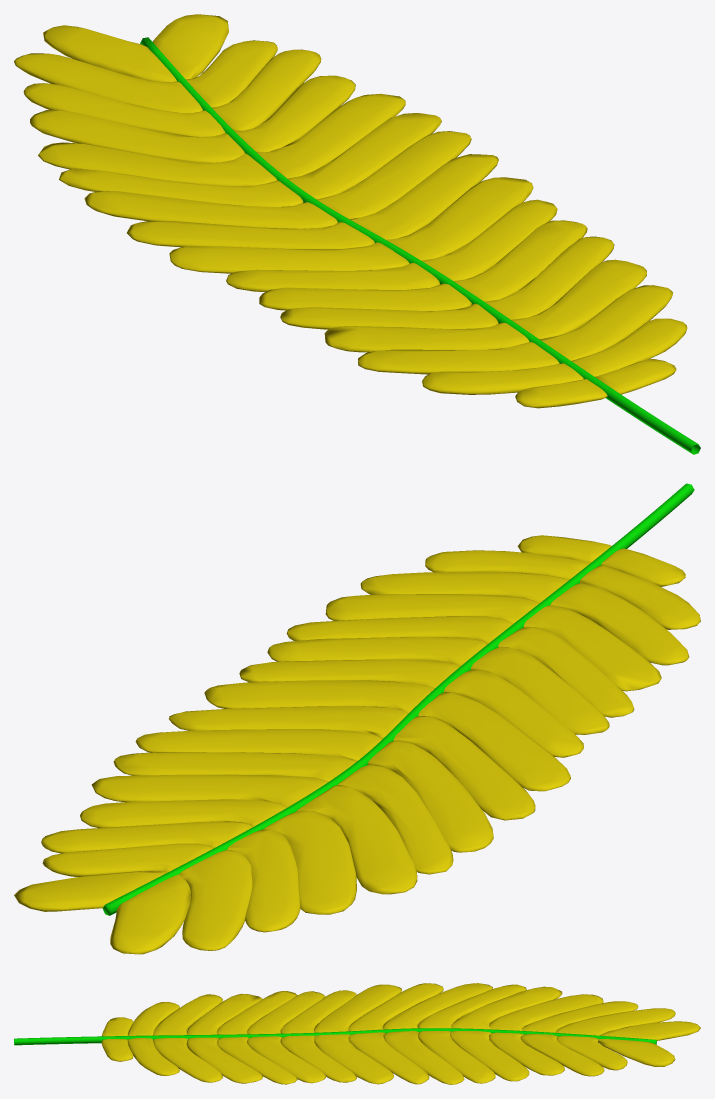
The model's file is mimosa_low.fbx.
3 views of the same model, one above another, from view 1: azimuth 30°, elevation 25°; view 2: azimuth 150°, elevation 25°; view 3: azimuth 270°, elevation 25° (orthographic). The views are drawn at different scales.
Parts seen in each view (by area): view 1: Plane.016; view 2: Plane.016; view 3: Plane.016.
Part boxes in pixels (x1,y1,x2,y2): Plane.016: [14, 14, 700, 454]; Plane.016: [14, 483, 700, 954]; Plane.016: [14, 983, 700, 1084].
Bounding box in the file's own units: 210 × 5.28 × 602.
